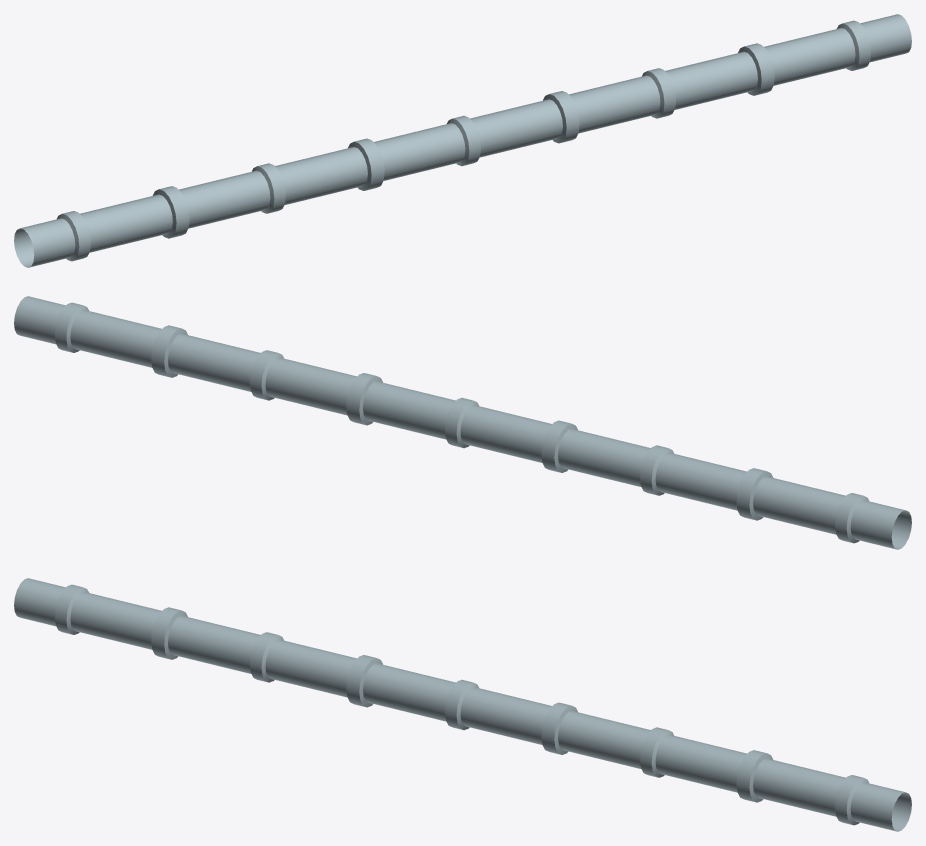
Rendered from BackCenter_Tube.fbx.
The picture shows the model from 3 angles, top to bottom: view 1: azimuth 30°, elevation 25°; view 2: azimuth 150°, elevation 25°; view 3: azimuth 330°, elevation 25°; orthographic projection.
Parts seen in each view (by area): view 1: BackCenter_Tube; view 2: BackCenter_Tube; view 3: BackCenter_Tube.
Boxes of the visible parts, box(x1,y1,x2,y2) form: BackCenter_Tube: box(14, 14, 911, 267); BackCenter_Tube: box(14, 296, 911, 549); BackCenter_Tube: box(14, 578, 911, 831).
Bounding box in the file's own units: 1800 × 90.01 × 90.01.
